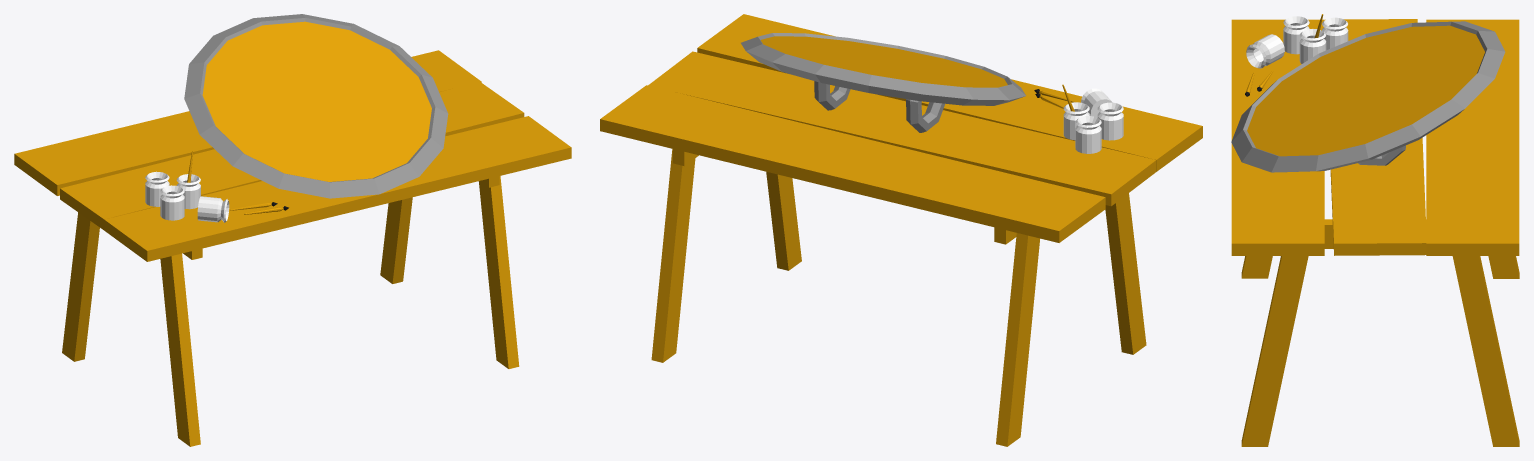
File: Herald Table2.fbx
The picture shows the model from 3 angles, left to right: view 1: azimuth 30°, elevation 25°; view 2: azimuth 150°, elevation 25°; view 3: azimuth 270°, elevation 25°; orthographic projection. The views are drawn at different scales.
Parts seen in each view (by area): view 1: Table, Shield, Cylinder.001, Cylinder.003, Cylinder.002, Cylinder; view 2: Table, Shield, Cylinder.002, Cylinder.001, Cylinder; view 3: Table, Shield, Cylinder.003, Cylinder.001, Cylinder, Cylinder.002.
Part boxes in pixels (<box>): Table: <box>14,50,571,446</box>; Shield: <box>184,14,448,198</box>; Cylinder.001: <box>160,185,184,220</box>; Cylinder.003: <box>197,196,229,222</box>; Cylinder.002: <box>145,171,169,206</box>; Cylinder: <box>176,174,200,209</box>; Table: <box>600,14,1202,446</box>; Shield: <box>741,33,1025,132</box>; Cylinder.002: <box>1075,116,1101,153</box>; Cylinder.001: <box>1097,102,1123,140</box>; Cylinder: <box>1063,102,1089,140</box>; Table: <box>1231,19,1519,446</box>; Shield: <box>1231,21,1505,172</box>; Cylinder.003: <box>1246,34,1284,68</box>; Cylinder.001: <box>1283,16,1309,54</box>; Cylinder: <box>1299,29,1326,63</box>; Cylinder.002: <box>1322,17,1348,50</box>.
Size of the model in its own units: 201 by 134 by 109.
